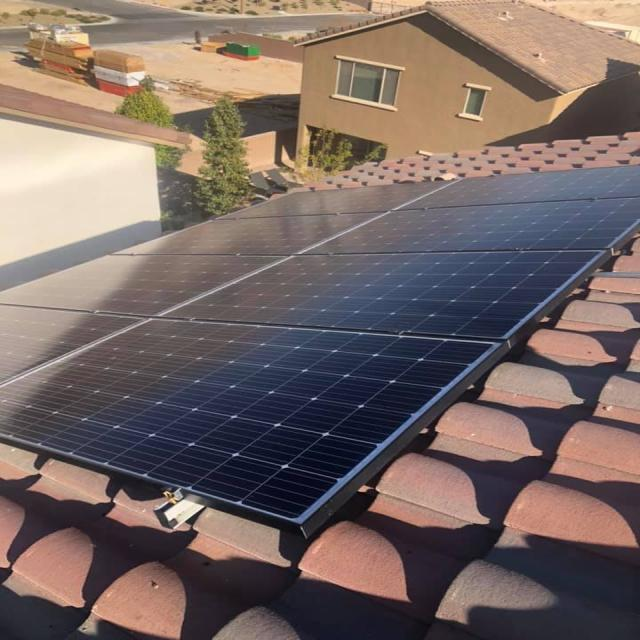clean-solar-panel: (3, 168, 638, 535)
